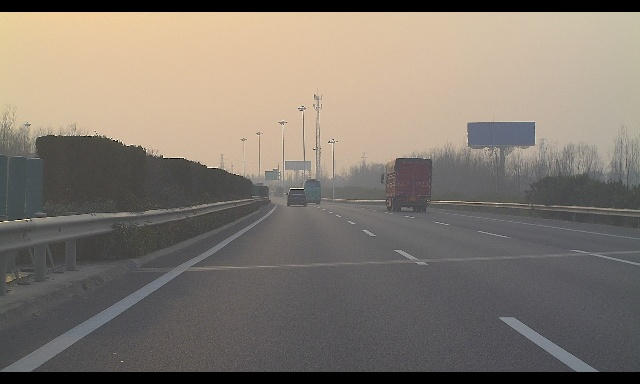bus: (301, 179, 321, 205)
car: (286, 188, 307, 206)
truck: (381, 158, 433, 212), (273, 185, 284, 196)
